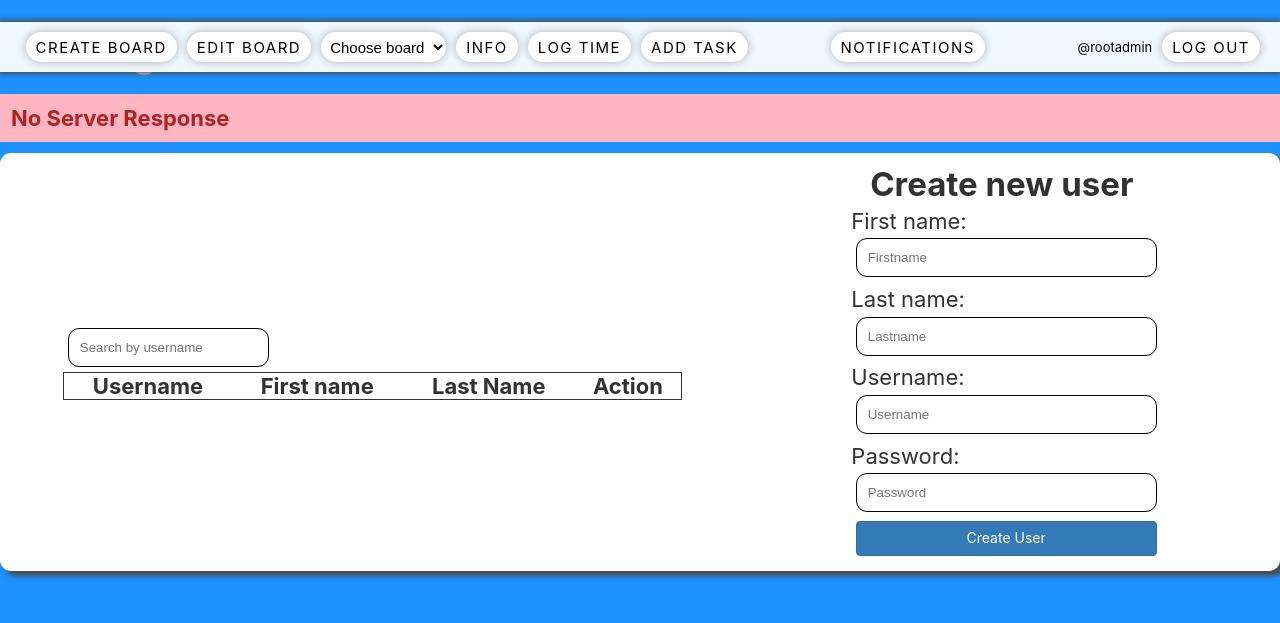
Test: AdminPage › Try to create user with lastName less then 3 characters
In the field with test id "usernameInput": (1006, 414) [856,395,1156,434], type "anton"
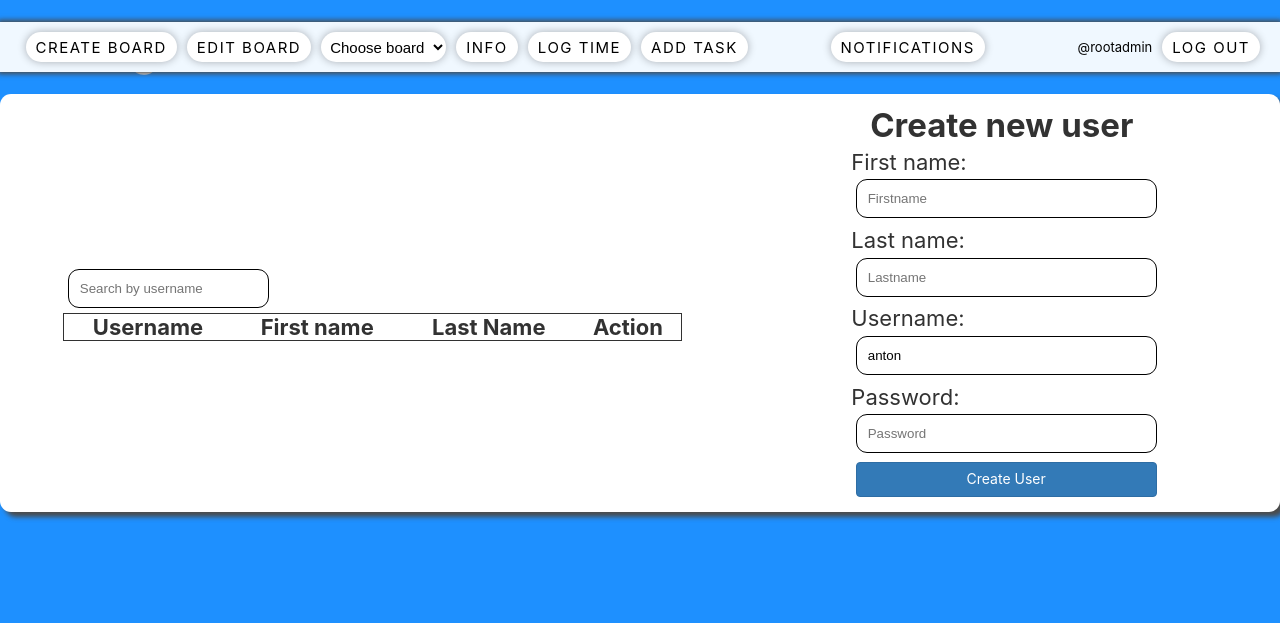
In the field with test id "FirstInput": (1006, 199) [856,179,1156,218], type "Ivan"
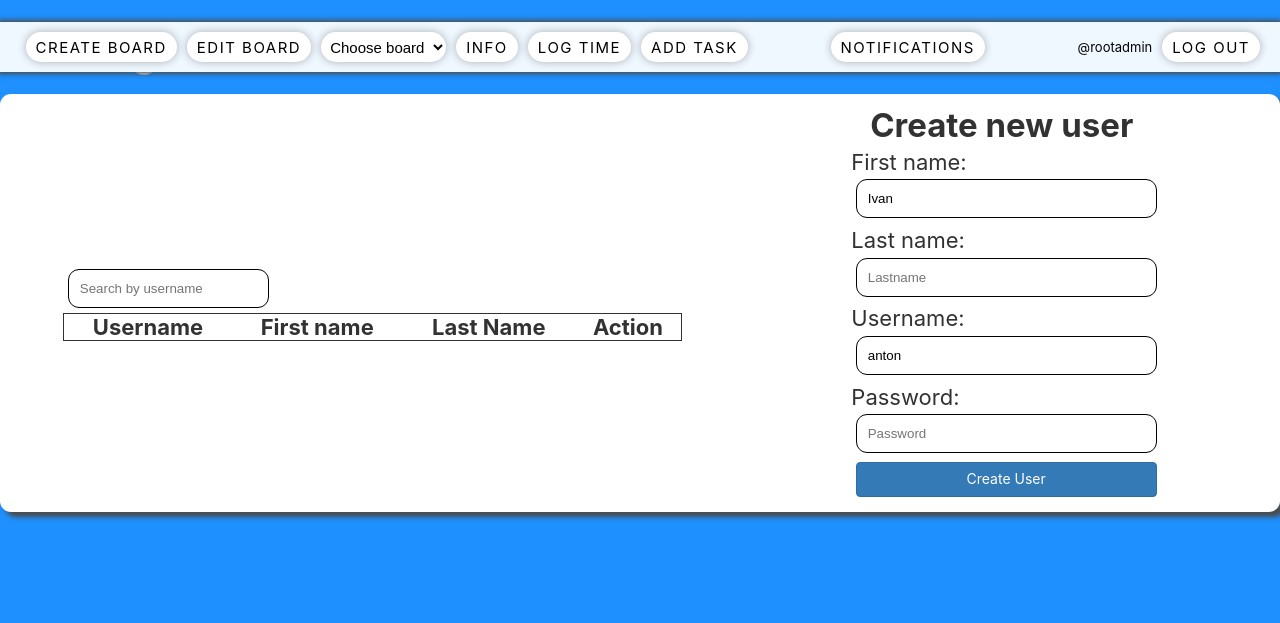
In the field with test id "LastInput": (1006, 277) [856,258,1156,296], type "P"
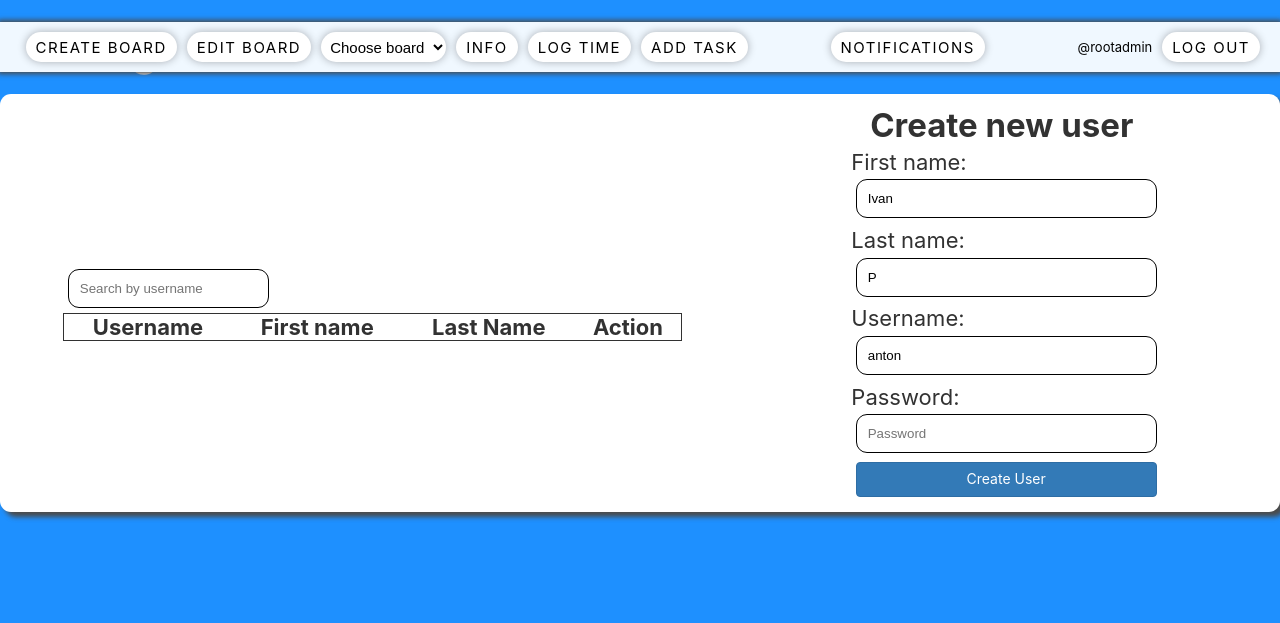
In the field with test id "PasswordInput": (1006, 433) [856,414,1156,453], type "12345678"
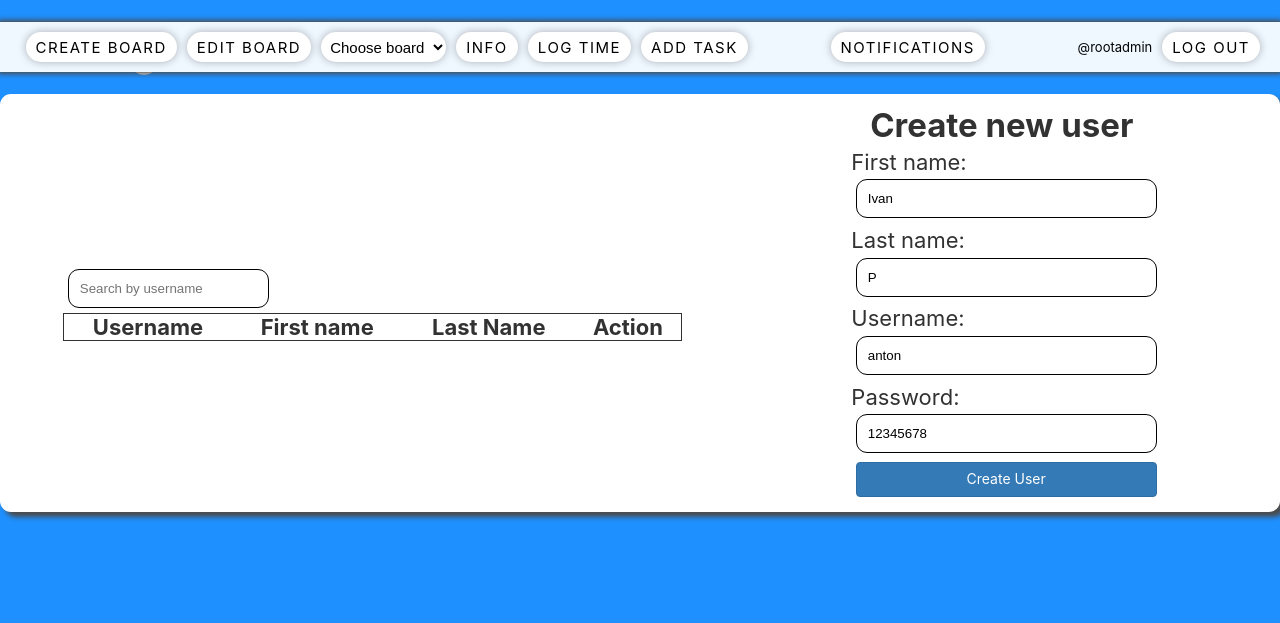
Click the button "Create User": (1006, 479) [856,462,1156,497]
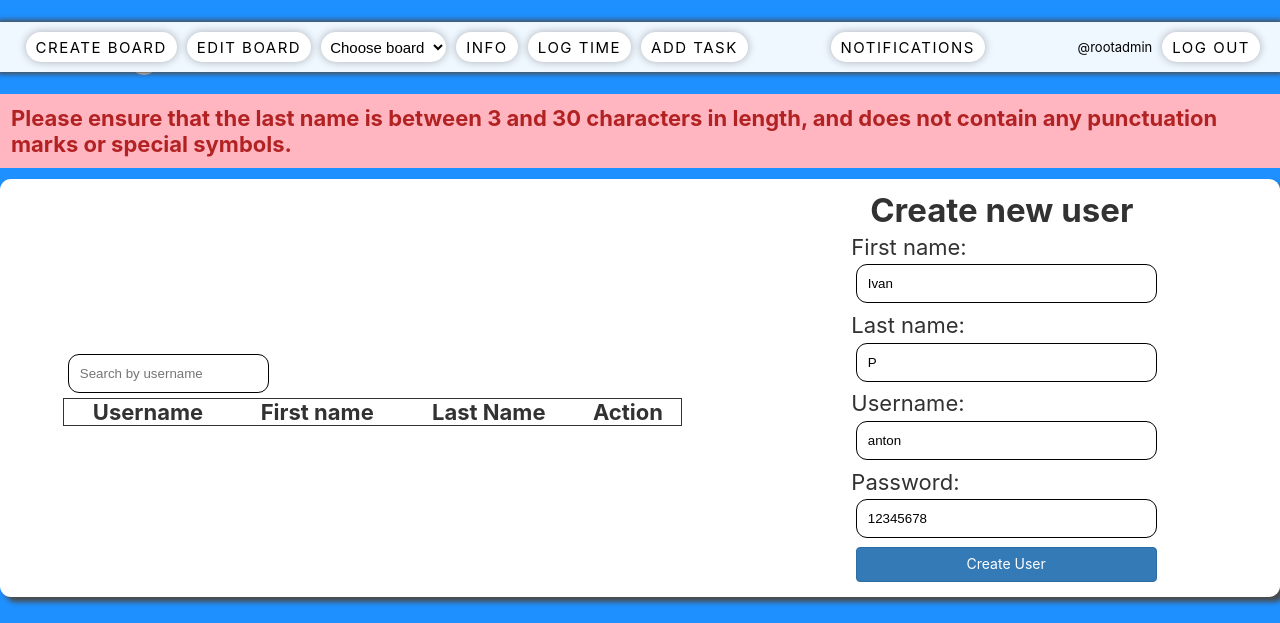
Expected: the text "Please ensure that the last name is between 3 and 30 characters in length, and does not contain any punctuation marks or" is shown, [11,105,1217,157]
